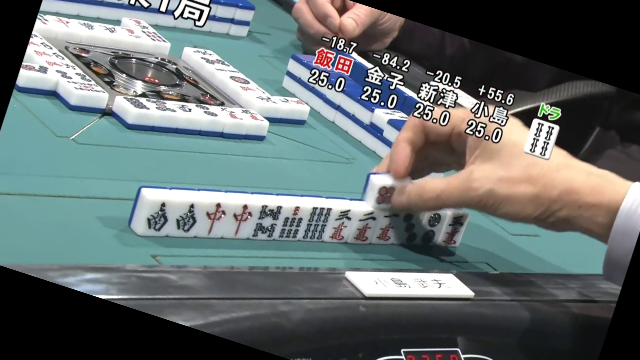Tehai: (117, 180, 467, 248)
